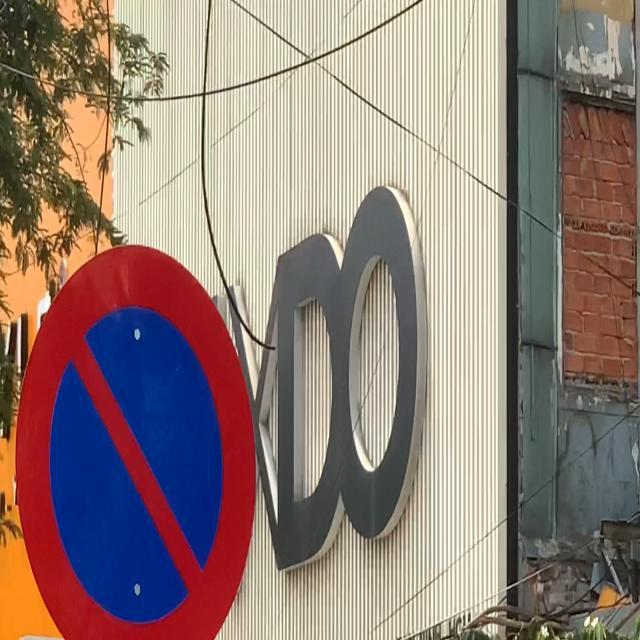Cam do xe: (15, 229, 264, 640)
